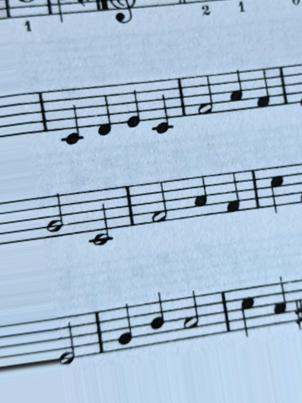A: (267, 275, 290, 333), (190, 171, 211, 221), (227, 69, 246, 115)
B: (147, 286, 170, 351)
D: (92, 83, 115, 139)
E: (121, 80, 143, 131)
F: (223, 169, 243, 218), (254, 64, 273, 111)
G: (114, 300, 136, 359)
HC: (238, 280, 259, 342), (264, 167, 288, 218)
LC: (58, 86, 88, 150), (149, 75, 177, 139)
